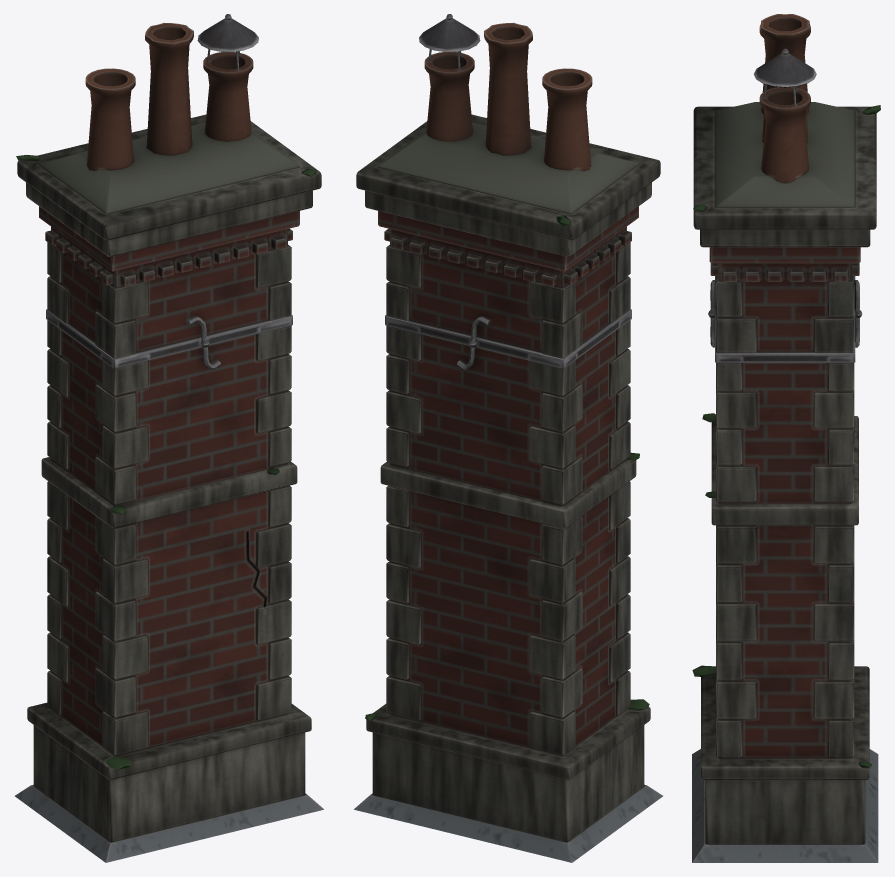
File: Chimney.fbx
3 renders of one model, left to right at view 1: azimuth 30°, elevation 25°; view 2: azimuth 150°, elevation 25°; view 3: azimuth 270°, elevation 25°, orthographic.
Parts seen in each view (by area): view 1: Chimney; view 2: Chimney; view 3: Chimney.
Part boxes in pixels (x1,y1,x2,y2): Chimney: (15, 14, 323, 862); Chimney: (354, 14, 662, 862); Chimney: (692, 14, 880, 862).
Size of the model in its own units: 290 by 981 by 213.
